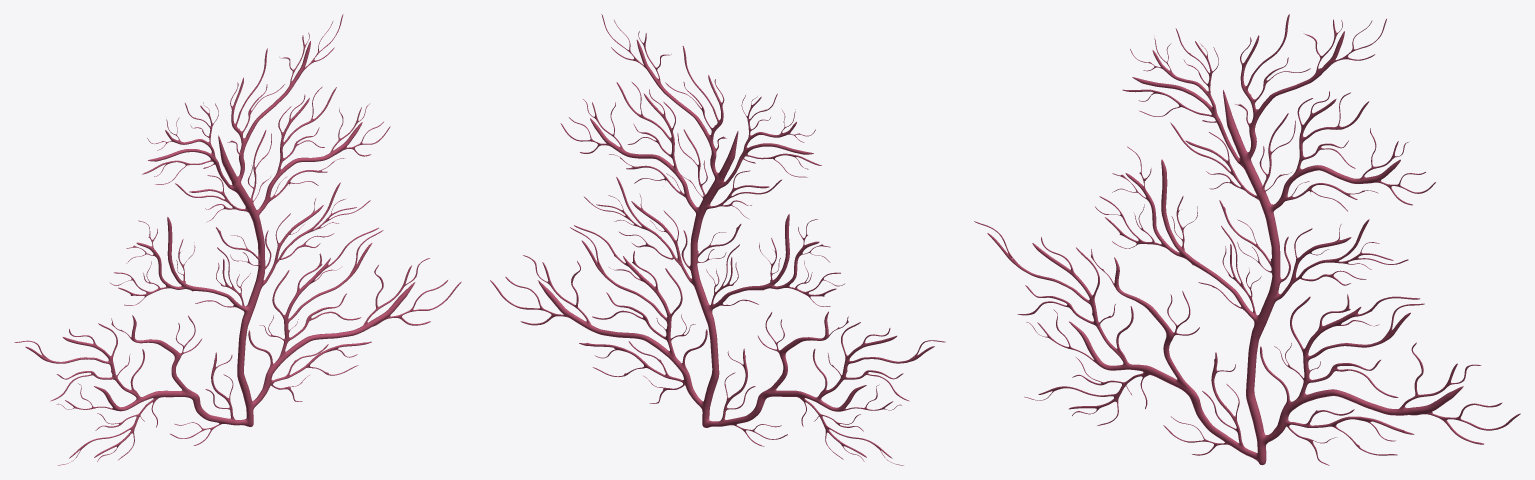
3 renders of one model, left to right at view 1: azimuth 30°, elevation 25°; view 2: azimuth 150°, elevation 25°; view 3: azimuth 330°, elevation 25°, orthographic. The views are drawn at different scales.
Parts seen in each view (by area): view 1: coral_root_1_retop; view 2: coral_root_1_retop; view 3: coral_root_1_retop.
Part boxes in pixels (box(x1,y1,x2,y2)): coral_root_1_retop: box(14, 14, 461, 465); coral_root_1_retop: box(490, 14, 945, 465); coral_root_1_retop: box(974, 14, 1520, 465).
Bounding box in the file's own units: 256 × 214 × 7.85.
